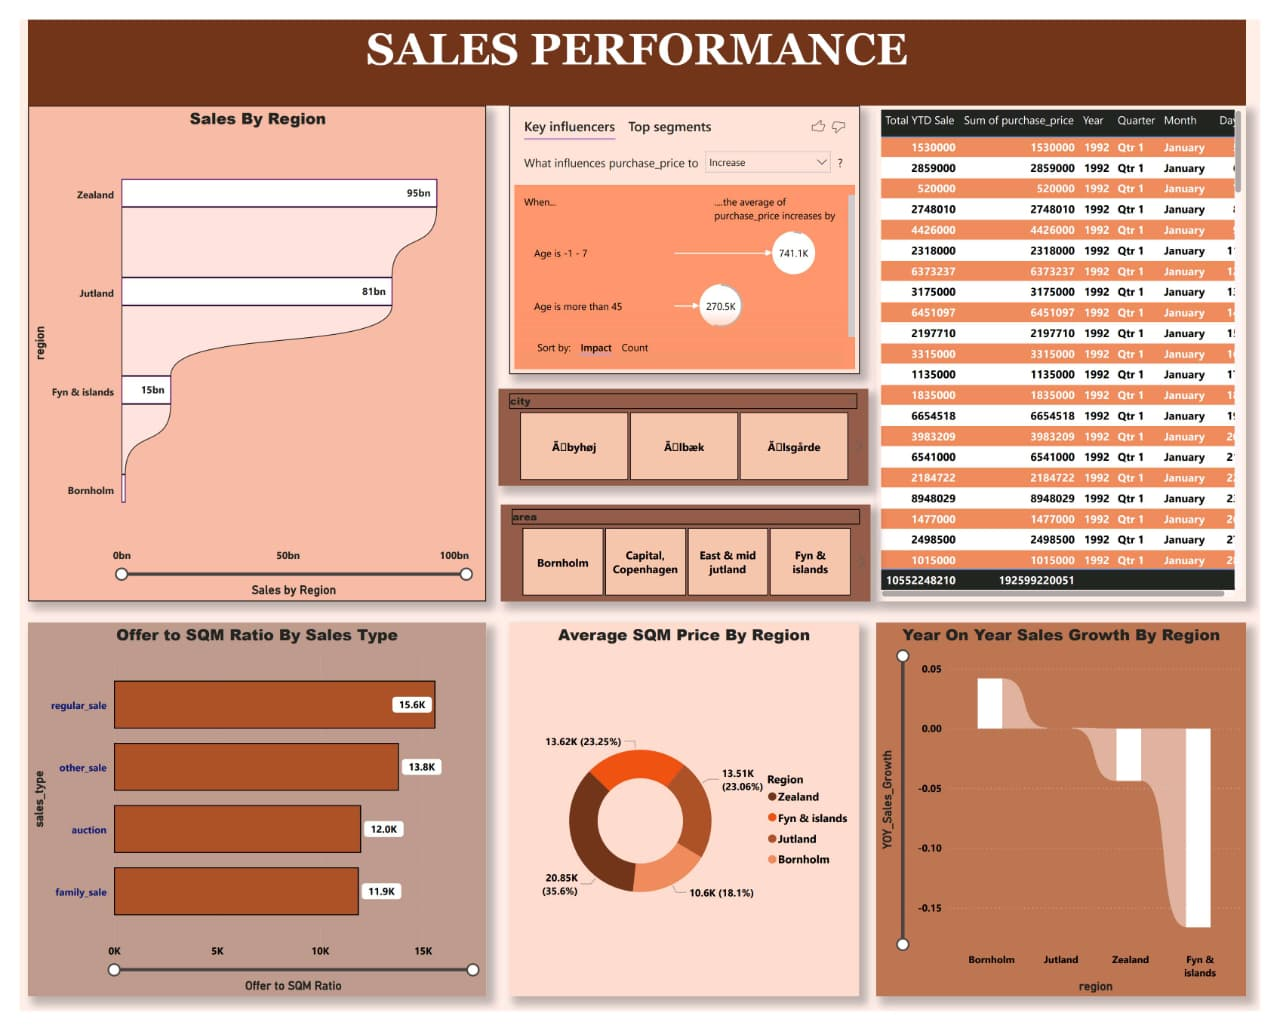

The page's visual inventory and layout, read from the dashboard file:
{"tool":"powerbi","page":{"name":"Sales Performance","canvas":[1500,1200],"ordinal":1},"visuals":[{"type":"textbox","box":[10.4,0,1472.7,103.9],"z":0},{"type":"barChart","title":"Sales By Region","fields":{"Y":["Housing.Sales by Region"],"Category":["Housing.region"]},"box":[10.4,103.9,553.2,600],"z":1000},{"type":"keyDriversVisual","fields":{"Target":["Housing.purchase_price"],"ExplainBy":["Housing.Age"]},"box":[592.2,103.9,423.4,324.7],"z":2000},{"type":"tableEx","fields":{"Values":["Housing.Total YTD Sale","Sum(Housing.purchase_price)","Housing.date.Variation.Date Hierarchy.Year","Housing.date.Variation.Date Hierarchy.Quarter","Housing.date.Variation.Date Hierarchy.Month","Housing.date.Variation.Date Hierarchy.Day"]},"box":[1036.4,103.9,446.8,600],"z":3000},{"type":"clusteredBarChart","title":"Offer to SQM Ratio By Sales Type","fields":{"Category":["Housing.sales_type"],"Y":["Housing.Offer to SQM Ratio"]},"box":[10.4,729.9,553.2,451.9],"z":4000},{"type":"donutChart","title":"Average SQM Price By Region","fields":{"Category":["Housing.region"],"Y":["Housing.Average SQM Price"]},"box":[592,730,423,452],"z":5000},{"type":"slicer","fields":{"Values":["Housing.city"]},"box":[579.2,446.8,446.8,116.9],"z":6000},{"type":"slicer","fields":{"Values":["Housing.area"]},"box":[581.8,587,446.8,116.9],"z":7000},{"type":"ribbonChart","title":"Year On Year Sales Growth By Region","fields":{"Category":["Housing.region"],"Y":["Housing.YOY_Sales_Growth"]},"box":[1036,730,447,452],"z":8000}]}

Visuals, with their boxes in screenshot pixels (x1, y1, x2, y2), scaled from the page's 1500x1200 canvas onto the 1280x1031 screenshot:
textbox: pyautogui.locateOnScreen(9, 0, 1266, 89)
"Sales By Region" barChart: pyautogui.locateOnScreen(9, 89, 481, 605)
keyDriversVisual - Housing.purchase_price x Housing.Age: pyautogui.locateOnScreen(505, 89, 867, 368)
tableEx - Housing.Total YTD Sale x Sum(Housing.purchase_price): pyautogui.locateOnScreen(884, 89, 1266, 605)
"Offer to SQM Ratio By Sales Type" clusteredBarChart: pyautogui.locateOnScreen(9, 627, 481, 1015)
"Average SQM Price By Region" donutChart: pyautogui.locateOnScreen(505, 627, 866, 1016)
slicer - Housing.city: pyautogui.locateOnScreen(494, 384, 876, 484)
slicer - Housing.area: pyautogui.locateOnScreen(496, 504, 878, 605)
"Year On Year Sales Growth By Region" ribbonChart: pyautogui.locateOnScreen(884, 627, 1265, 1016)
